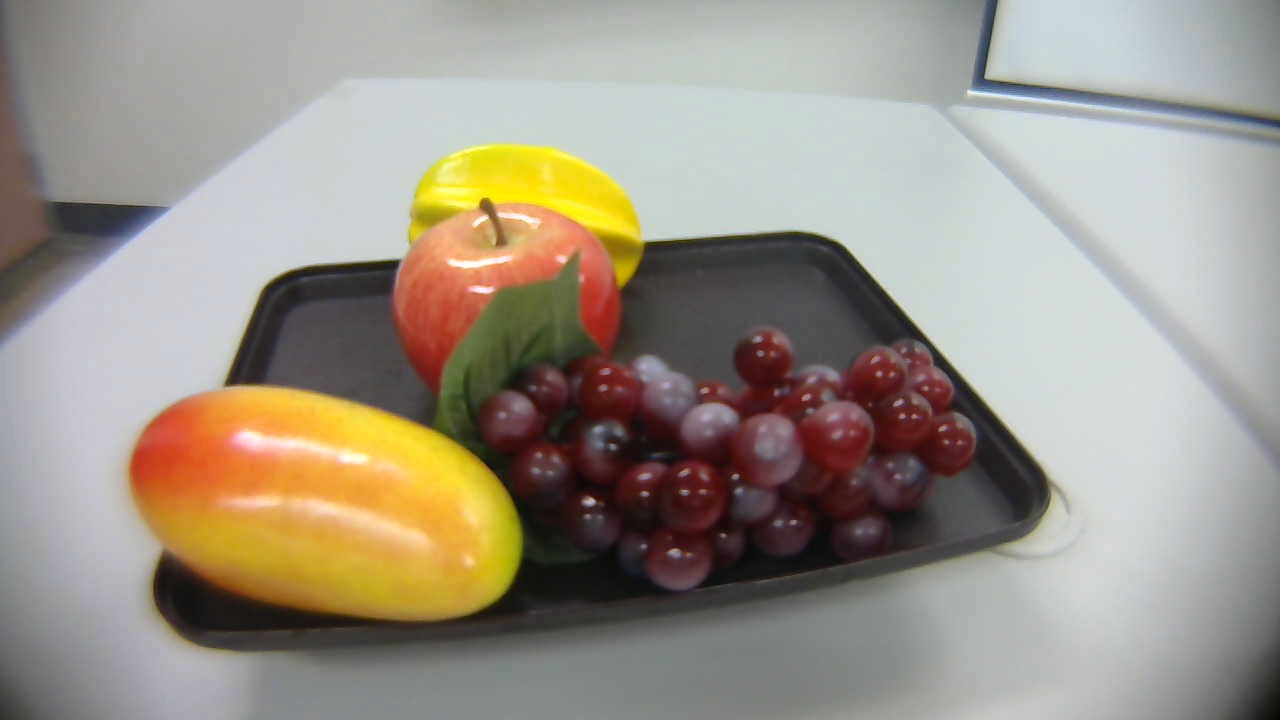grape: (425, 248, 990, 609)
red apple: (388, 198, 622, 408)
red mango: (122, 371, 542, 651)
star fruit: (413, 138, 652, 301)
